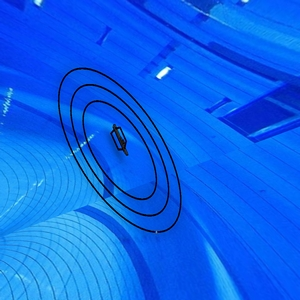circle: (52, 64, 199, 239)
submarine: (110, 122, 133, 162)
